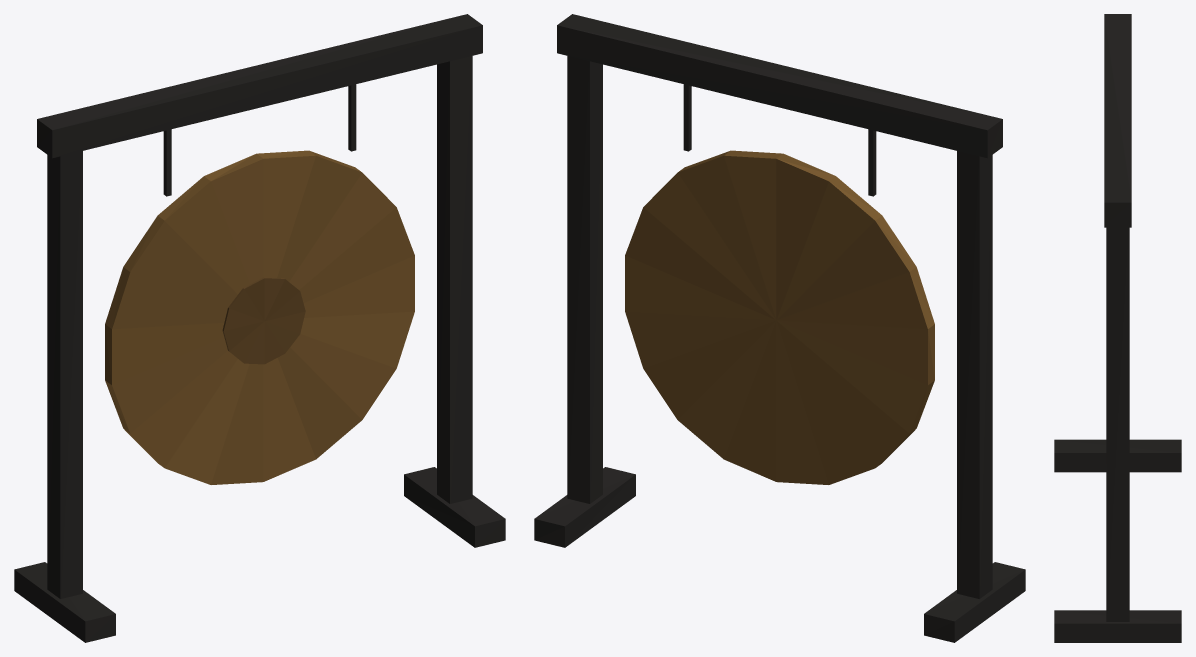
The model's file is forge-gong-frame-a.glb.
3 renders of one model, left to right at view 1: azimuth 30°, elevation 25°; view 2: azimuth 150°, elevation 25°; view 3: azimuth 270°, elevation 25°, orthographic. The views are drawn at different scales.
Parts seen in each view (by area): view 1: forge-gong-frame-a; view 2: forge-gong-frame-a; view 3: forge-gong-frame-a.
Part boxes in pixels (x1,y1,x2,y2): forge-gong-frame-a: (14, 14, 505, 642); forge-gong-frame-a: (534, 14, 1025, 642); forge-gong-frame-a: (1054, 14, 1181, 642).
Bounding box in the file's own units: 4.2 × 4.6 × 1.2.
